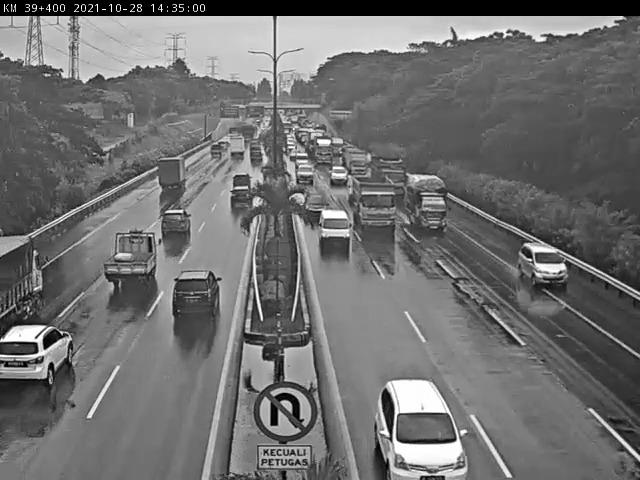big truck: (0, 232, 53, 325), (348, 177, 398, 231)
car: (366, 363, 480, 480), (1, 317, 79, 405), (164, 266, 222, 327), (512, 240, 569, 295), (315, 215, 353, 256), (157, 207, 192, 242), (291, 158, 320, 186), (303, 191, 329, 216), (328, 161, 351, 186), (229, 175, 257, 192), (232, 192, 257, 211)
small truck: (105, 231, 161, 291), (402, 172, 447, 237), (153, 157, 190, 198)
